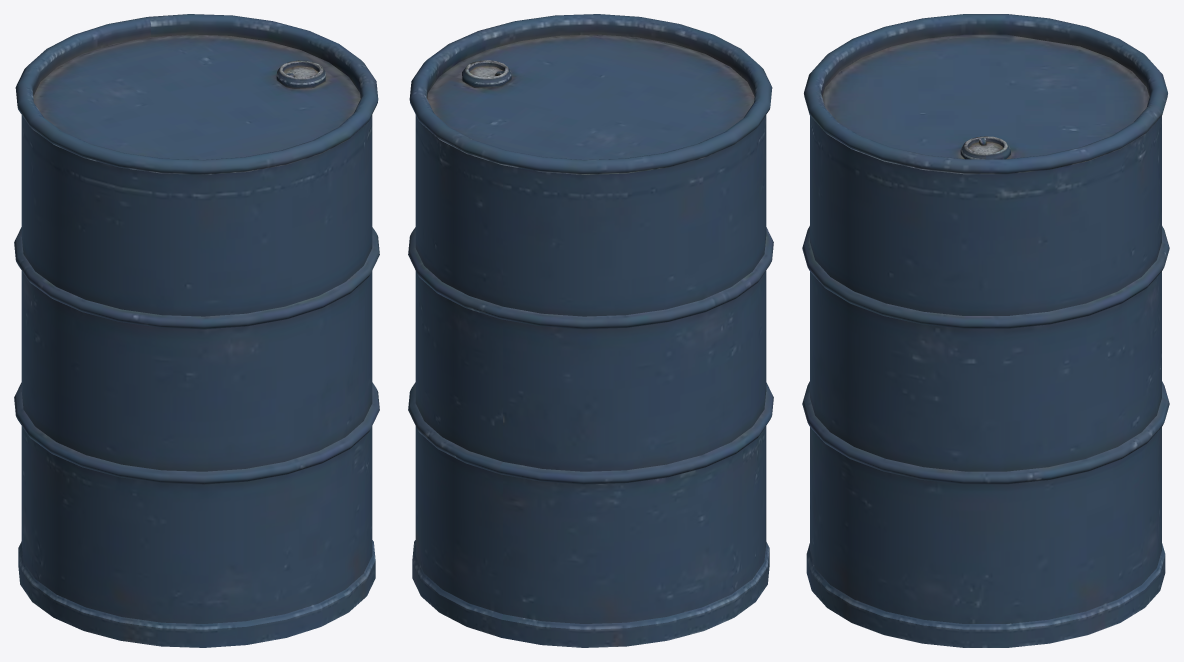
The model's file is barrel_03.glb.
3 renders of one model, left to right at view 1: azimuth 30°, elevation 25°; view 2: azimuth 150°, elevation 25°; view 3: azimuth 270°, elevation 25°, orthographic.
Parts seen in each view (by area): view 1: barrel_03; view 2: barrel_03; view 3: barrel_03.
Part boxes in pixels (x1=…): barrel_03: x1=14, y1=14, x2=379, y2=647; barrel_03: x1=408, y1=14, x2=773, y2=647; barrel_03: x1=802, y1=14, x2=1169, y2=647.
Bounding box in the file's own units: 0.634 × 0.9305 × 0.6386.
1 material, 1 textured.
